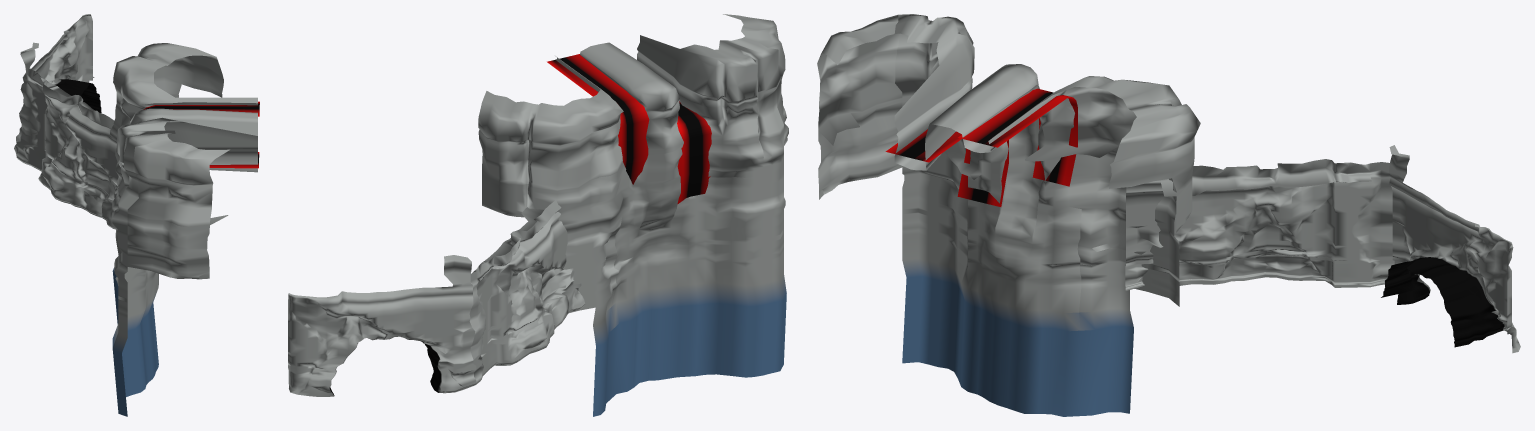
The picture shows the model from 3 angles, left to right: view 1: azimuth 30°, elevation 25°; view 2: azimuth 150°, elevation 25°; view 3: azimuth 270°, elevation 25°; orthographic projection. The views are drawn at different scales.
Visible parts, largest first — view 1: G:\FFXIV-MapTools\exports\g3t1\bg\ex2\01_gyr_g3\twn\g3t1\bgp (×3); view 2: G:\FFXIV-MapTools\exports\g3t1\bg\ex2\01_gyr_g3\twn\g3t1\bgp (×3); view 3: G:\FFXIV-MapTools\exports\g3t1\bg\ex2\01_gyr_g3\twn\g3t1\bgp (×3).
Boxes of the visible parts, bbox=[...] form: G:\FFXIV-MapTools\exports\g3t1\bg\ex2\01_gyr_g3\twn\g3t1\bgp (×3): bbox=[14, 14, 259, 416]; G:\FFXIV-MapTools\exports\g3t1\bg\ex2\01_gyr_g3\twn\g3t1\bgp (×3): bbox=[288, 14, 788, 416]; G:\FFXIV-MapTools\exports\g3t1\bg\ex2\01_gyr_g3\twn\g3t1\bgp (×3): bbox=[817, 14, 1520, 416].
Size of the model in its own units: 108 by 138 by 246.
